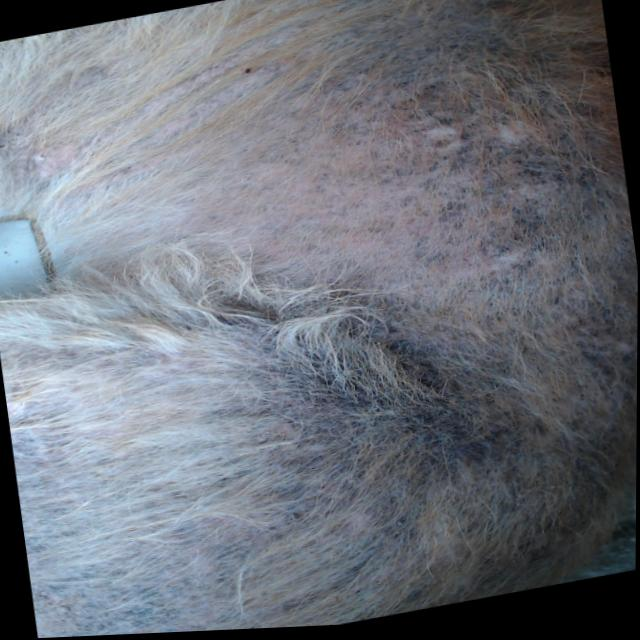demodicosis: (290, 48, 584, 315), (24, 482, 159, 638), (311, 376, 485, 487)
